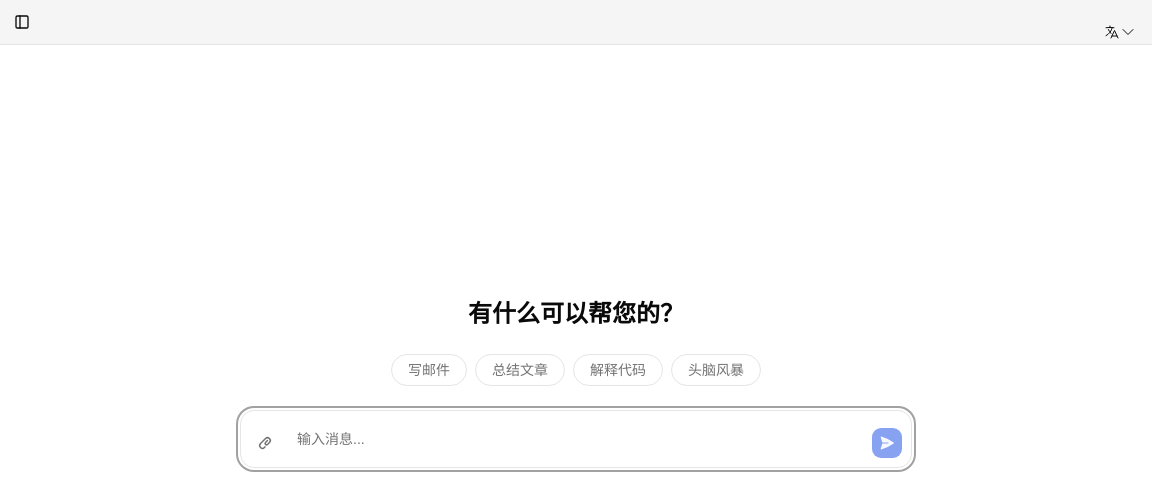
it: ChatPage › 交互 › 点击快捷提示词应填入输入框
Click the button "写邮件": [429, 370] box [391,354,467,386]
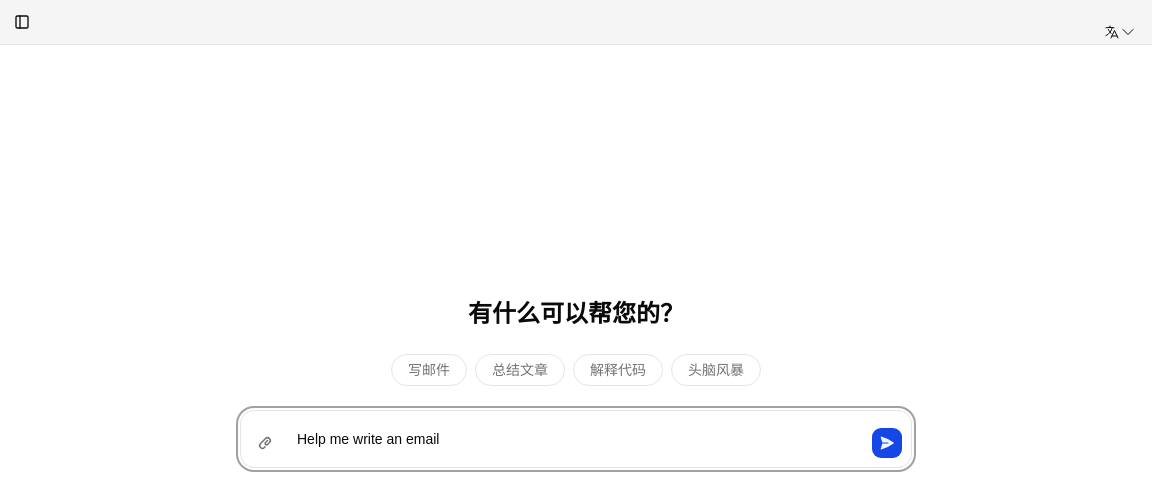
Now the text box holds "Help me write an email", box [289,418,863,458]
